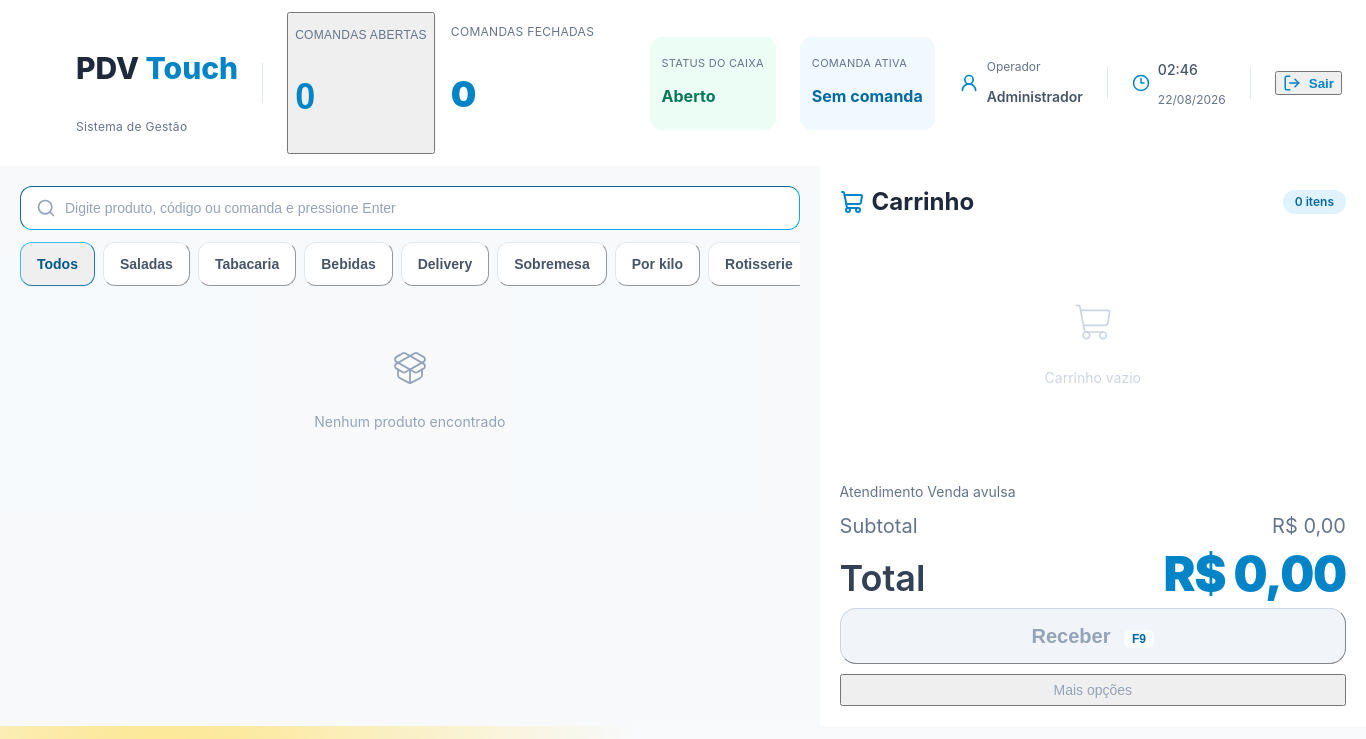
Test: Carregamento da comanda no caixa › sai da comanda com Ctrl+X sem fechar ou cancelar o atendimento
The width and height of the screenshot is (1366, 739).
Type "1" into the field with placeholder "Digite produto, código ou comanda e pressione Enter" at (410, 208), box top-left (20, 186), bottom-right (800, 230)
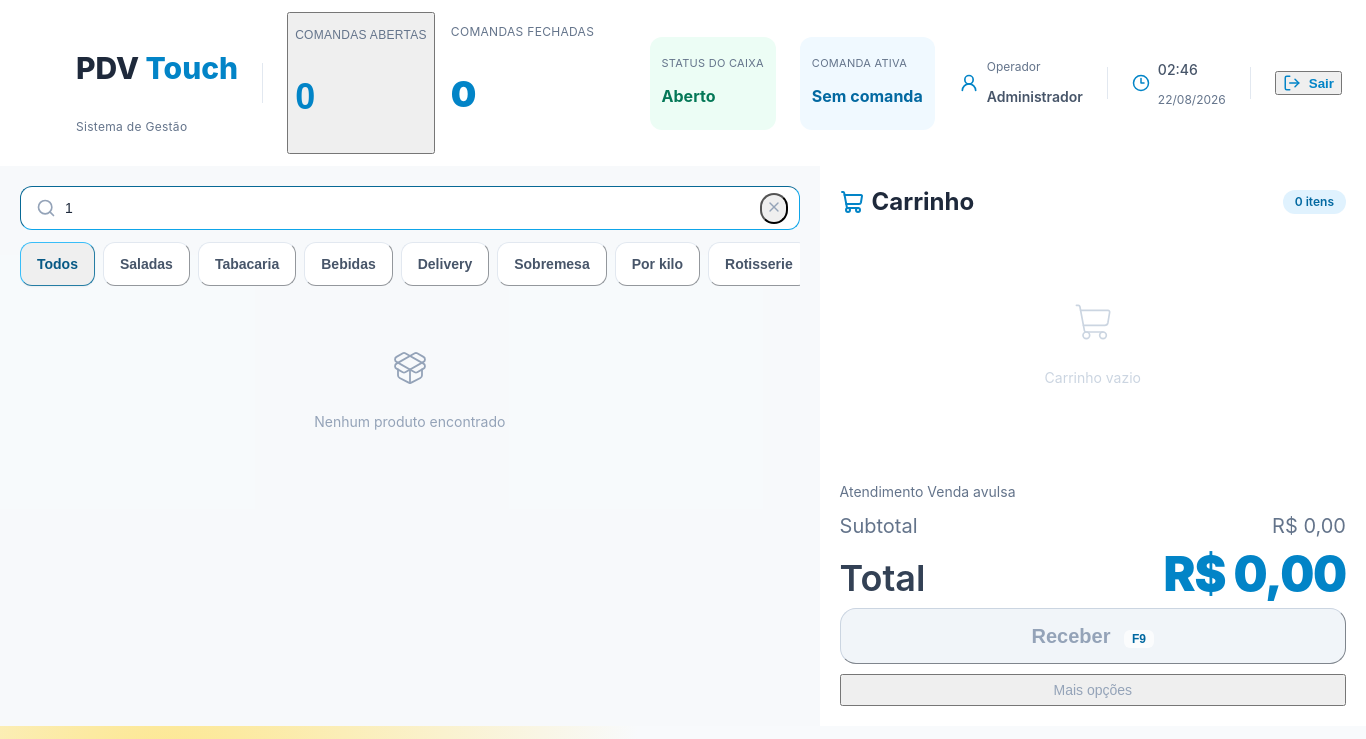
Press Enter in the field with placeholder "Digite produto, código ou comanda e pressione Enter", box top-left (20, 186), bottom-right (800, 230)
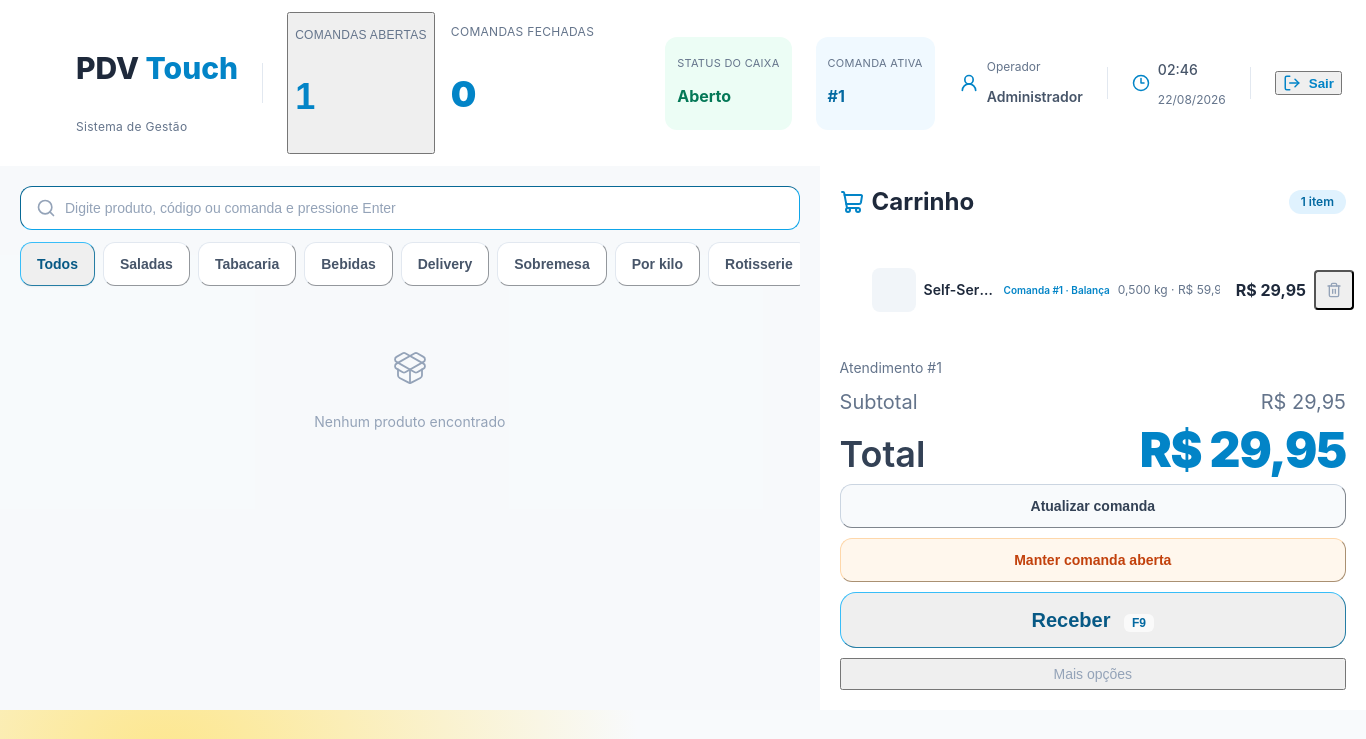
Check: the text "Self-Service" is shown, box top-left (924, 280), bottom-right (996, 300)
Check: the button "Manter comanda aberta" is shown, box top-left (840, 538), bottom-right (1346, 582)
Press F2
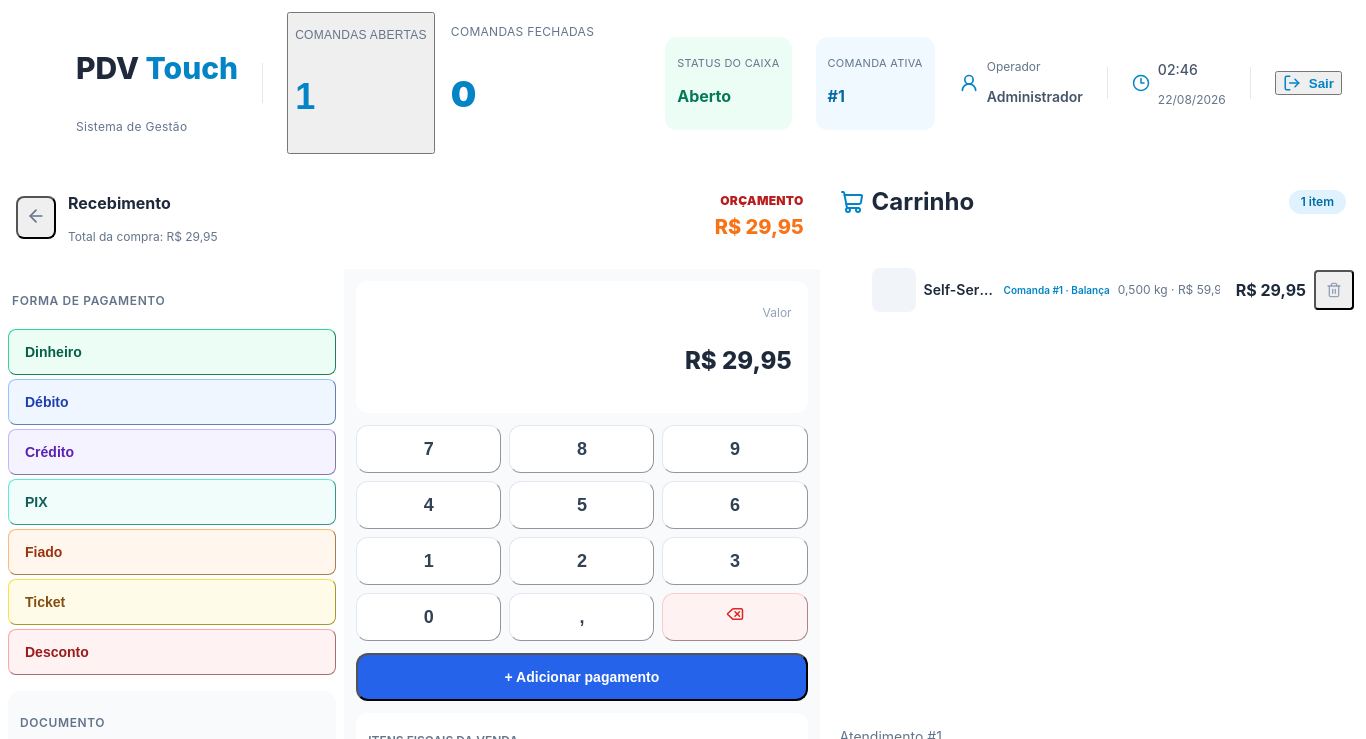
Check: the text "Forma de Pagamento" is shown, box top-left (12, 292), bottom-right (165, 308)
Press x
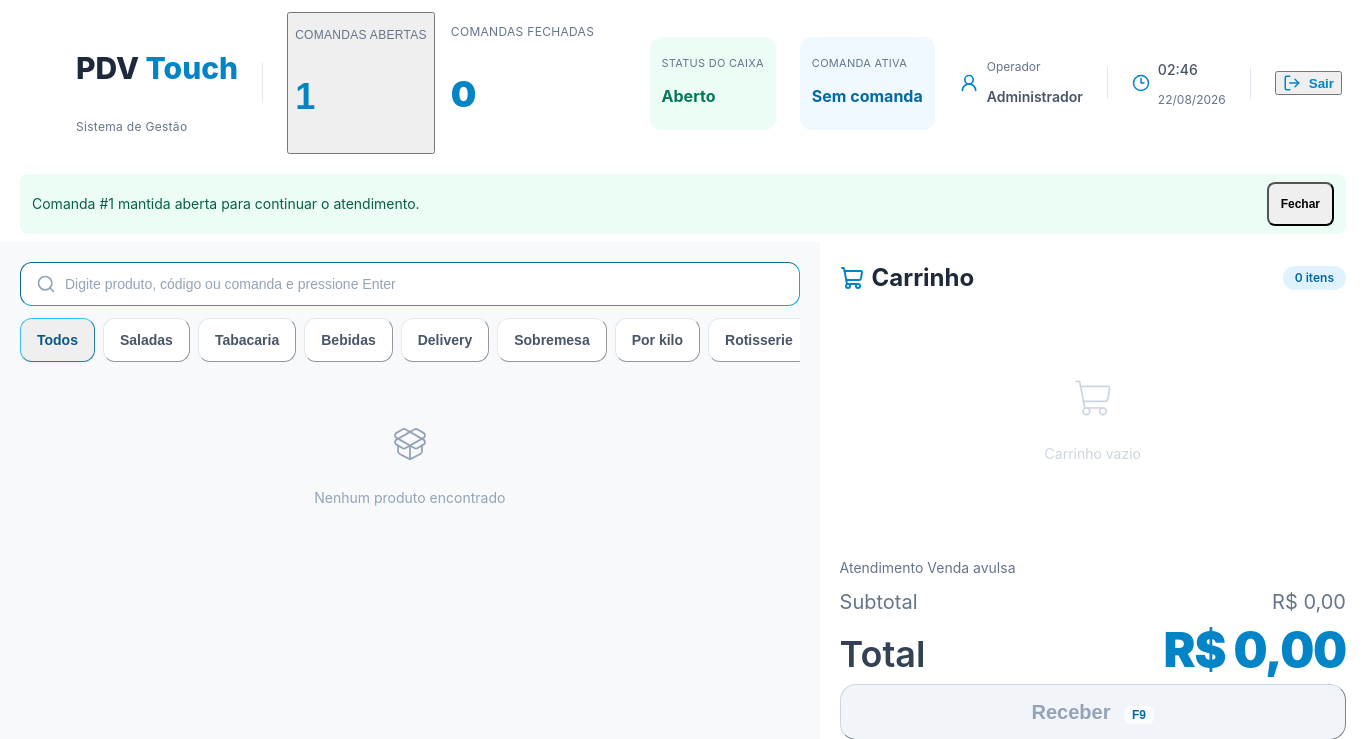
Check: the text "Sem comanda" is shown, box top-left (812, 86), bottom-right (923, 106)
Check: the text "Comanda #1 mantida aberta para continuar o atendimento." is shown, box top-left (32, 194), bottom-right (420, 214)
